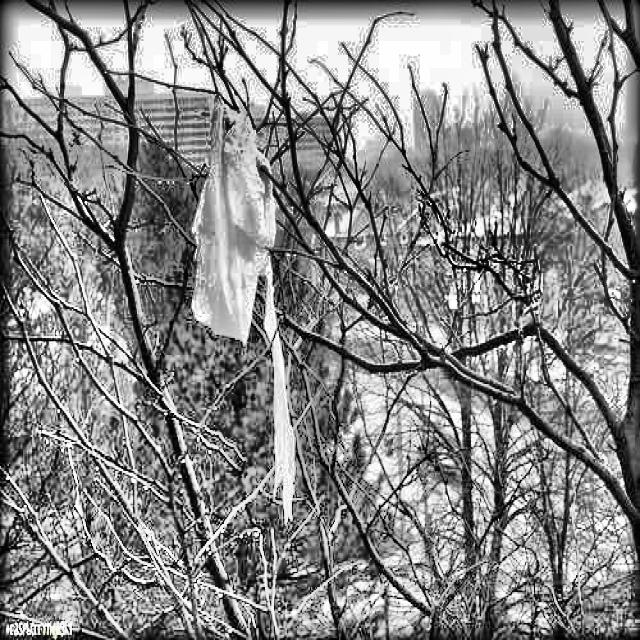Plastic: (182, 87, 290, 355)
